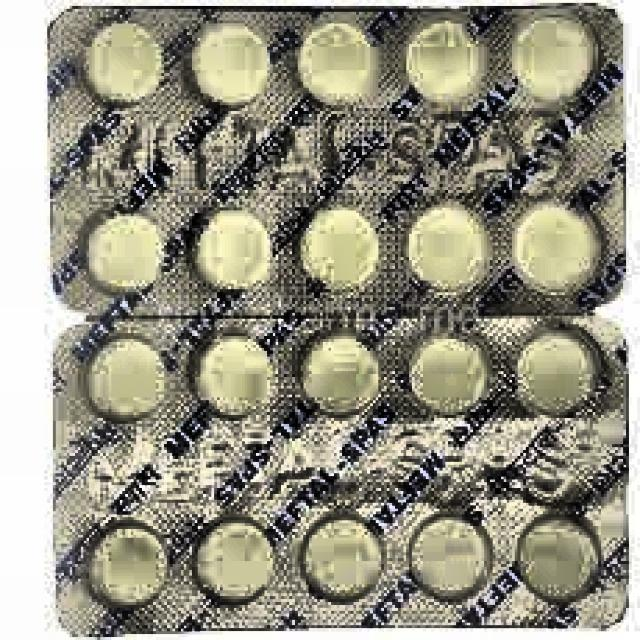Meftal: (56, 327, 626, 631), (49, 14, 624, 314)
